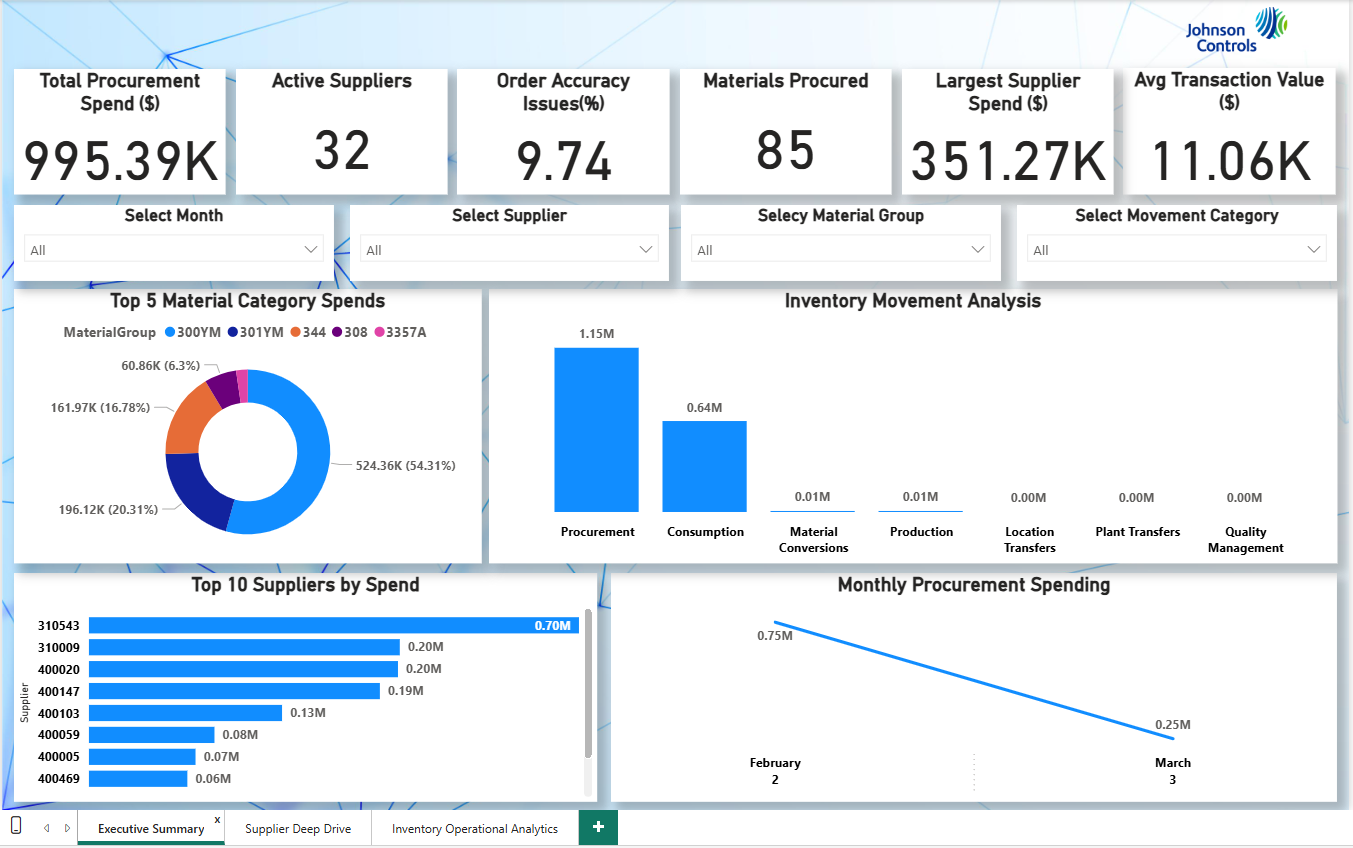

This screenshot's page, from the dashboard's own definition file:
{"tool":"powerbi","page":{"name":"Executive Summary","canvas":[1330,800],"ordinal":0},"visuals":[{"type":"image","box":[1158.2,0,121.8,57.8],"z":0},{"type":"card","title":"Total Procurement Spend ($)","fields":{"Values":["Sum(vw_ProcurementPerformance.AbsProcurementValue)"]},"box":[12,68.1,209.4,123.6],"z":1000},{"type":"card","title":"Avg Transaction Value ($)","fields":{"Values":["Avg(vw_ProcurementPerformance.AbsProcurementValue)"]},"box":[1107.5,67,210.5,124.6],"z":2000},{"type":"card","title":"Active Suppliers","fields":{"Values":["Count(vw_SupplierPerformance.Supplier)"]},"box":[230.9,68.1,209.4,123.6],"z":3000},{"type":"card","title":"Order Accuracy Issues(%)","fields":{"Values":["Avg(vw_SupplierPerformance.OrderComplexityRate)"]},"box":[449.8,68.1,210.5,123.6],"z":4000},{"type":"card","title":"Materials Procured","fields":{"Values":["Count(vw_ProcurementPerformance.Material)"]},"box":[669.7,68.1,209.4,123.6],"z":5000},{"type":"card","title":"Largest Supplier Spend ($)","fields":{"Values":["Max(vw_SupplierPerformance.TotalProcurementValue)"]},"box":[888.6,68.1,209.4,123.6],"z":6000},{"type":"clusteredBarChart","title":"Top 10 Suppliers by Spend","fields":{"Category":["vw_SupplierPerformance.Supplier"],"Y":["Sum(vw_SupplierPerformance.TotalProcurementValue)"]},"box":[11.5,565.5,576,226.2],"z":7000},{"type":"lineChart","title":"Monthly Procurement Spending","fields":{"Category":["vw_ProcurementPerformance.PostingMonth","vw_ProcurementPerformance.PostingMonthName"],"Y":["Sum(vw_ProcurementPerformance.AbsProcurementValue)"]},"box":[601.1,565.5,717.4,226.2],"z":8000},{"type":"donutChart","title":"Top 5 Material Category Spends","fields":{"Category":["vw_MaterialCategoryAnalysis.MaterialGroup"],"Y":["Sum(vw_MaterialCategoryAnalysis.TotalSpend)"]},"box":[11.5,285.9,461.8,271.2],"z":9000},{"type":"columnChart","title":"Inventory Movement Analysis","fields":{"Category":["vw_InventoryMovementAnalysis.MovementCategory"],"Y":["Sum(vw_InventoryMovementAnalysis.AbsAmount)"]},"box":[480.7,285.9,837.8,271.2],"z":10000},{"type":"slicer","title":"Select Month","fields":{"Values":["vw_ProcurementPerformance.PostingMonthName"]},"box":[11.5,202.1,316.3,75.4],"z":11000},{"type":"slicer","title":"Select Supplier","fields":{"Values":["vw_SupplierPerformance.Supplier"]},"box":[343.5,202.1,315.2,75.4],"z":12000},{"type":"slicer","title":"Selecy Material Group","fields":{"Values":["vw_MaterialCategoryAnalysis.MaterialGroup"]},"box":[670.2,202.1,316.3,75.4],"z":13000},{"type":"slicer","title":"Select Movement Category","fields":{"Values":["vw_InventoryMovementAnalysis.MovementCategory"]},"box":[1002.2,202.1,316.3,75.4],"z":14000}]}

Visuals, with their boxes on the page's 1330x800 design canvas (x1, y1, x2, y2). These are canvas units, not pixel positions in the 1353x848 screenshot, which may show the page scaled, cropped or inside an application window:
image: [left=1158, top=0, right=1280, bottom=58]
"Total Procurement Spend ($)" card: [left=12, top=68, right=221, bottom=192]
"Avg Transaction Value ($)" card: [left=1108, top=67, right=1318, bottom=192]
"Active Suppliers" card: [left=231, top=68, right=440, bottom=192]
"Order Accuracy Issues(%)" card: [left=450, top=68, right=660, bottom=192]
"Materials Procured" card: [left=670, top=68, right=879, bottom=192]
"Largest Supplier Spend ($)" card: [left=889, top=68, right=1098, bottom=192]
"Top 10 Suppliers by Spend" clusteredBarChart: [left=12, top=566, right=588, bottom=792]
"Monthly Procurement Spending" lineChart: [left=601, top=566, right=1318, bottom=792]
"Top 5 Material Category Spends" donutChart: [left=12, top=286, right=473, bottom=557]
"Inventory Movement Analysis" columnChart: [left=481, top=286, right=1318, bottom=557]
"Select Month" slicer: [left=12, top=202, right=328, bottom=278]
"Select Supplier" slicer: [left=344, top=202, right=659, bottom=278]
"Selecy Material Group" slicer: [left=670, top=202, right=986, bottom=278]
"Select Movement Category" slicer: [left=1002, top=202, right=1318, bottom=278]
